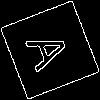A: (25, 25, 80, 74)
